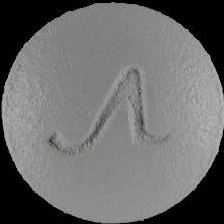58118-5062: (0, 0, 224, 224)
